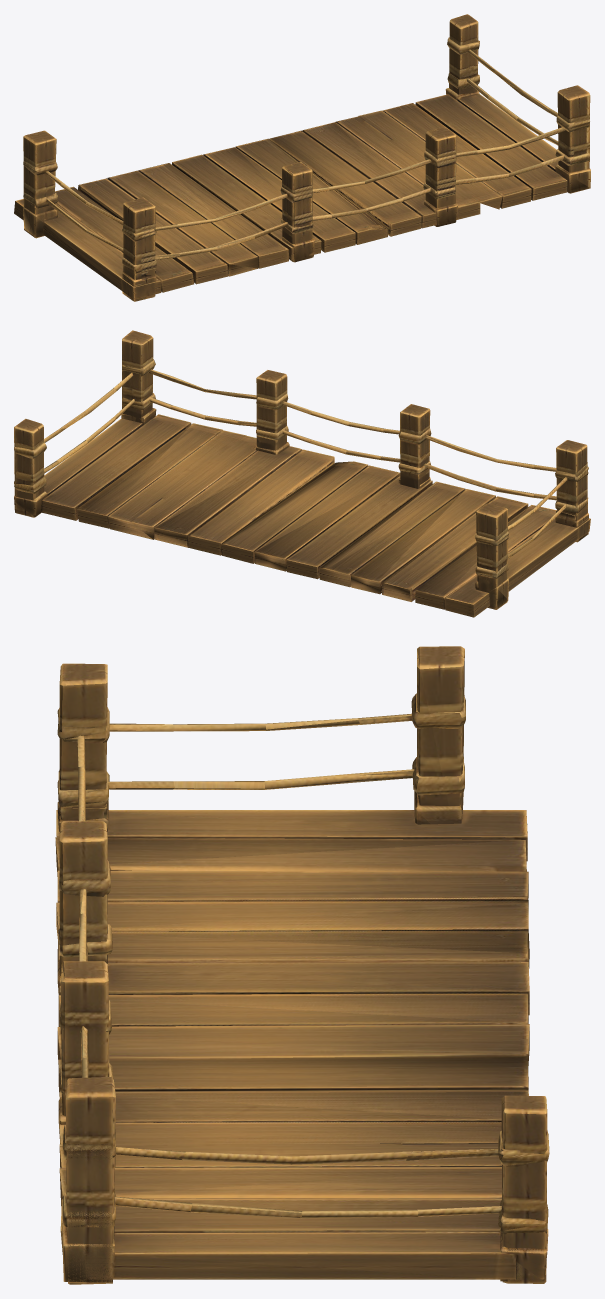
The model's file is balcony.glb.
3 views of the same model, one above another, from view 1: azimuth 30°, elevation 25°; view 2: azimuth 150°, elevation 25°; view 3: azimuth 270°, elevation 25° (orthographic). The views are drawn at different scales.
Parts seen in each view (by area): view 1: balcony_LOD0; view 2: balcony_LOD0; view 3: balcony_LOD0.
Boxes of the visible parts, bbox=[...] form: balcony_LOD0: bbox=[14, 14, 590, 301]; balcony_LOD0: bbox=[14, 330, 590, 617]; balcony_LOD0: bbox=[55, 646, 549, 1284].
Size of what is drawn, in the model's own units: 1 by 0.1978 by 0.4619.
1 material, 1 textured.
